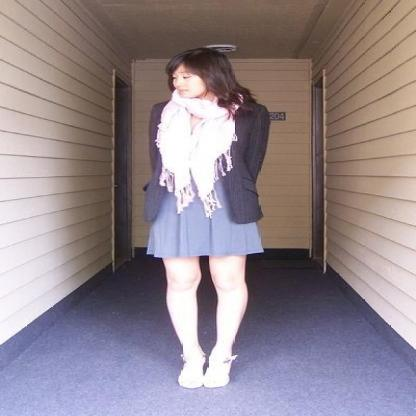jacket: (132, 101, 281, 223)
shoe: (182, 352, 230, 387)
skirt: (147, 175, 261, 262)
